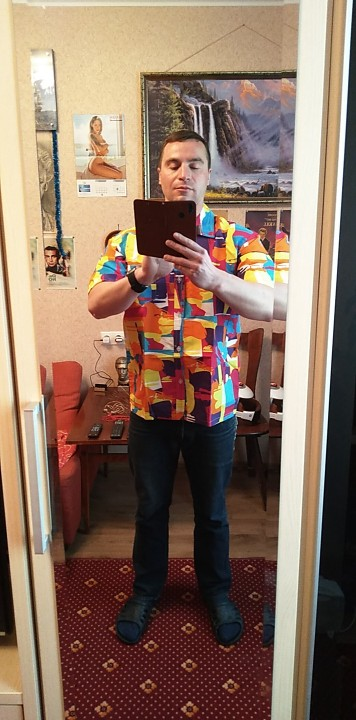shirts: (92, 202, 265, 427)
